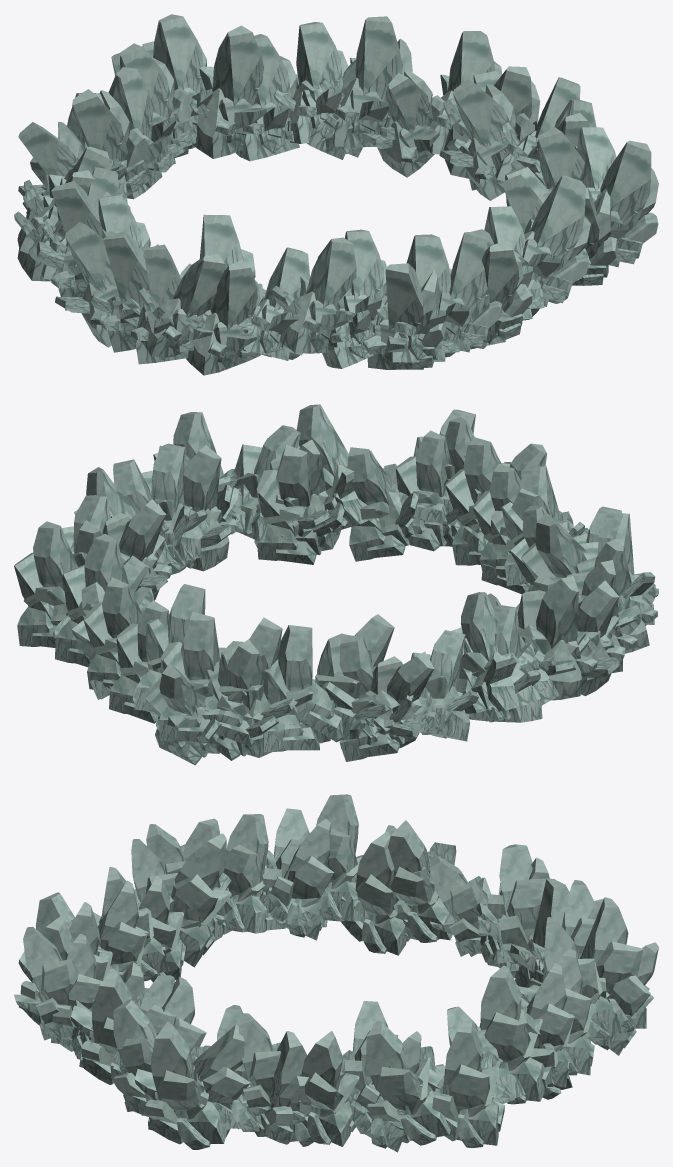
The model's file is StoneHexBarrier.fbx.
3 renders of one model, top to bottom at view 1: azimuth 30°, elevation 25°; view 2: azimuth 150°, elevation 25°; view 3: azimuth 270°, elevation 25°, orthographic. The views are drawn at different scales.
Parts seen in each view (by area): view 1: Stone.002; view 2: Stone.002; view 3: Stone.002.
Part boxes in pixels (box(x1,y1,x2,y2)): Stone.002: box(14, 14, 658, 375); Stone.002: box(14, 404, 658, 765); Stone.002: box(14, 794, 658, 1152).
Bounding box in the file's own units: 21.4 × 5.56 × 22.89.
